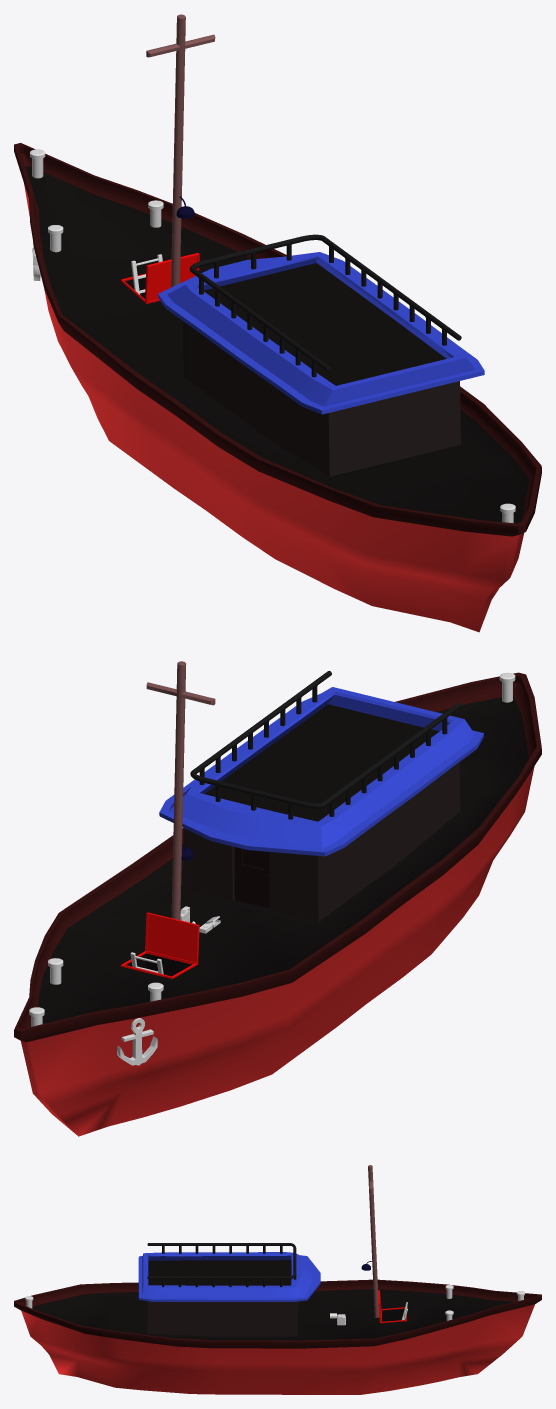
The model's file is CompleteShip.FBX.
3 views of the same model, one above another, from view 1: azimuth 30°, elevation 25°; view 2: azimuth 150°, elevation 25°; view 3: azimuth 270°, elevation 25° (orthographic). The views are drawn at different scales.
Visible parts, largest first — view 1: ShipModel, FenceThing; view 2: ShipModel, FenceThing, Door, Anchor; view 3: ShipModel, FenceThing.
Part boxes in pixels (x1,y1,x2,y2): ShipModel: (14, 14, 541, 632); FenceThing: (189, 234, 461, 377); ShipModel: (14, 661, 541, 1136); FenceThing: (190, 671, 461, 819); Door: (234, 847, 269, 908); Anchor: (117, 1018, 157, 1065); ShipModel: (14, 1165, 541, 1394); FenceThing: (147, 1243, 296, 1287).
Size of the model in its own units: 6.35 by 10.3 by 23.66.
